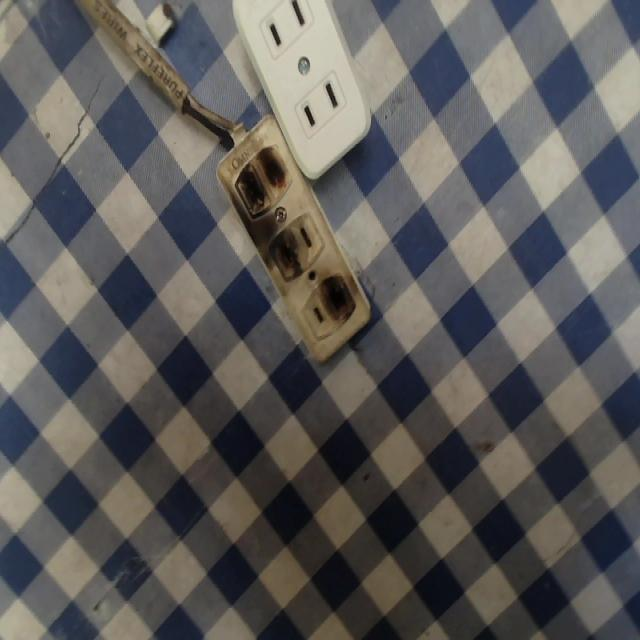-: (227, 144, 297, 219), (314, 270, 361, 334), (259, 227, 306, 289)
